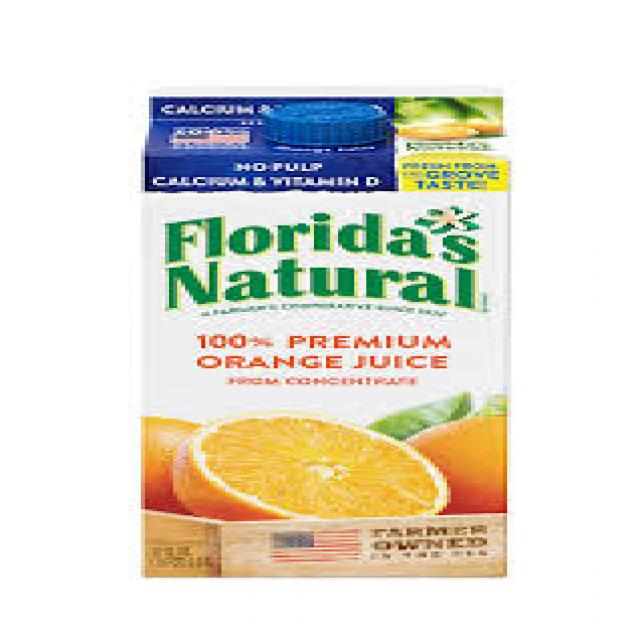non_white_jug: (95, 79, 533, 605)
